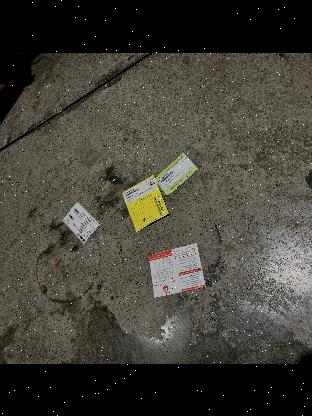Others: (145, 242, 210, 298), (120, 170, 172, 233), (152, 152, 198, 194), (64, 200, 100, 244)
